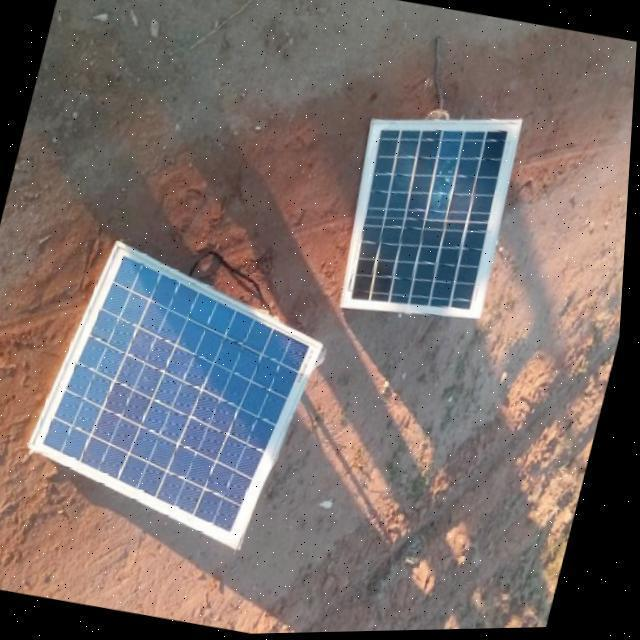Normal Solar Panel: (15, 232, 342, 558), (328, 93, 532, 336)
